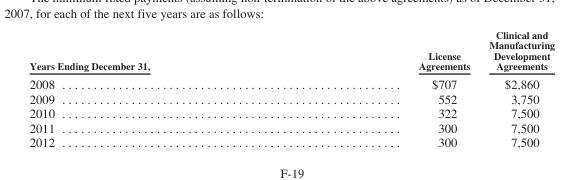table: (28, 28, 554, 149)
table column: (28, 28, 283, 149), (283, 28, 478, 149), (478, 28, 554, 149)
table column header: (28, 28, 554, 73)
table row: (28, 28, 554, 73), (28, 73, 554, 91), (28, 105, 554, 120), (28, 134, 554, 149), (28, 91, 554, 105), (28, 120, 554, 134)
